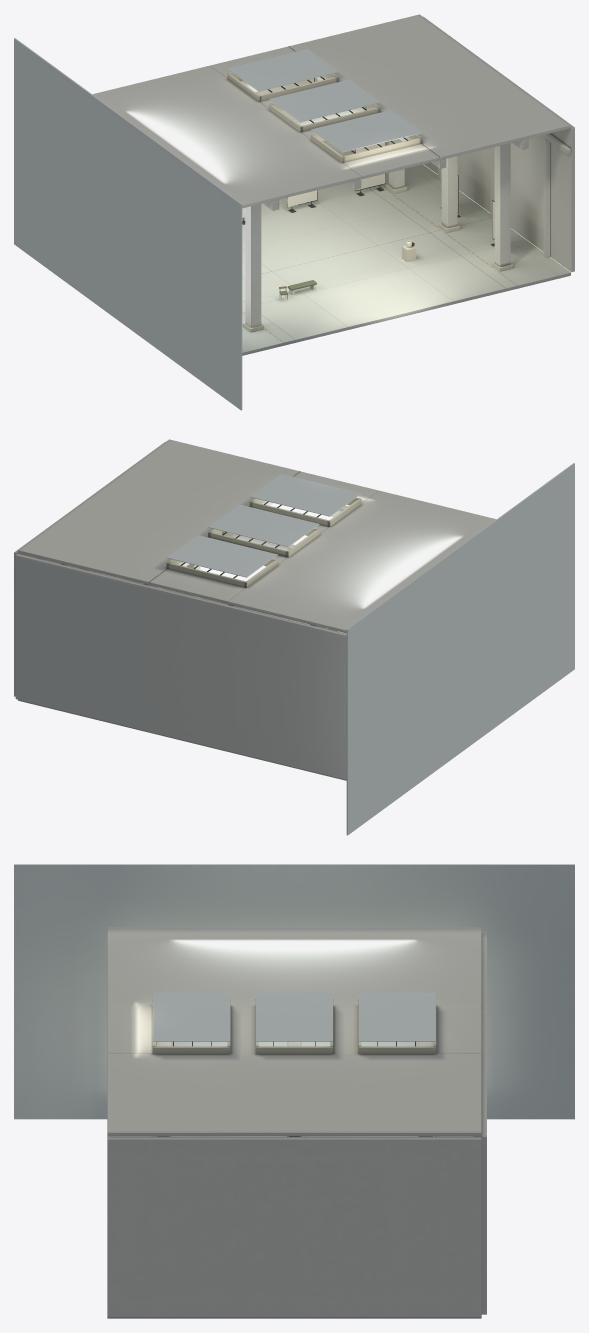
Rendered from gallery-textured.glb.
3 renders of one model, top to bottom at view 1: azimuth 30°, elevation 25°; view 2: azimuth 150°, elevation 25°; view 3: azimuth 270°, elevation 25°, orthographic. The views are drawn at different scales.
Visible parts, largest first — view 1: Baked_Architecture, Baked_Floor, Baked_Props; view 2: Baked_Architecture, Baked_Floor; view 3: Baked_Architecture, Baked_Floor.
Boxes of the visible parts, bbox=[...] form: Baked_Architecture: bbox=[14, 14, 574, 410]; Baked_Floor: bbox=[242, 164, 570, 355]; Baked_Props: bbox=[242, 142, 494, 299]; Baked_Architecture: bbox=[14, 439, 574, 835]; Baked_Floor: bbox=[18, 589, 346, 780]; Baked_Architecture: bbox=[14, 864, 574, 1316]; Baked_Floor: bbox=[107, 1136, 481, 1318].
Size of the model in its own units: 28.35 by 15 by 30.
3 materials, 3 textured.
